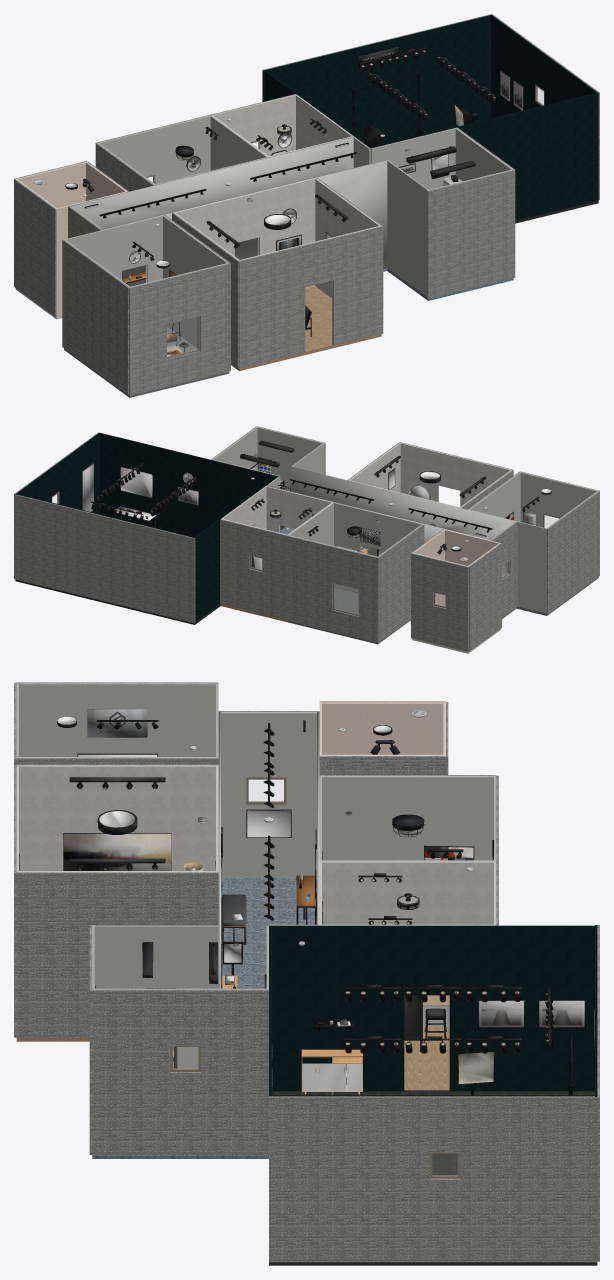
Rendered from scene_named.glb.
3 renders of one model, top to bottom at view 1: azimuth 30°, elevation 25°; view 2: azimuth 150°, elevation 25°; view 3: azimuth 270°, elevation 25°, orthographic. The views are drawn at different scales.
Parts seen in each view (by area): view 1: north_wall_shooting_area/north_wall_shooting_area/geometry_0, south_wall_exterior_client_lounge/south_wall_exterior_client, south_wall_shooting_area/south_wall_shooting_area/geometry_0, south_wall_exterior_office/south_wall_exterior_office/geomet, south_wall_exterior_props_storage/south_wall_exterior_props_, north_wall_hallway/north_wall_hallway/geometry_0, west_wall_exterior_office/west_wall_exterior_office/geometry, north_wall_client_lounge/north_wall_client_lounge/geometry_0, east_wall_shooting_area/east_wall_shooting_area/geometry_0, west_wall_exterior_bathroom/west_wall_exterior_bathroom/geom, west_wall_props_storage/west_wall_props_storage/geometry_0, north_wall_editing_room/north_wall_editing_room/geometry_0 (+19 smaller); view 2: north_wall_exterior_shooting_area/north_wall_exterior_shooti, south_wall_shooting_area/south_wall_shooting_area/geometry_0, north_wall_exterior_editing_room/north_wall_exterior_editing, north_wall_exterior_dressing_room/north_wall_exterior_dressi, south_wall_hallway/south_wall_hallway/geometry_0, north_wall_exterior_bathroom/north_wall_exterior_bathroom/ge, west_wall_exterior_office/west_wall_exterior_office/geometry, south_wall_client_lounge/south_wall_client_lounge/geometry_0, west_wall_exterior_editing_room/west_wall_exterior_editing_r, east_wall_shooting_area/east_wall_shooting_area/geometry_0, west_wall_exterior_bathroom/west_wall_exterior_bathroom/geom, north_wall_office/north_wall_office/geometry_0 (+22 smaller); view 3: east_wall_exterior_shooting_area/east_wall_exterior_shooting, west_wall_shooting_area/west_wall_shooting_area/geometry_0, east_wall_exterior_props_storage/east_wall_exterior_props_st, east_wall_exterior_client_lounge/east_wall_exterior_client_l, west_wall_client_lounge/west_wall_client_lounge/geometry_0, west_wall_editing_room/west_wall_editing_room/geometry_0, west_wall_hallway/west_wall_hallway/geometry_0, west_wall_office/west_wall_office/geometry_0, west_wall_dressing_room/west_wall_dressing_room/geometry_0, west_wall_props_storage/west_wall_props_storage/geometry_0, west_wall_bathroom/west_wall_bathroom/geometry_0, floor_hallway (+17 smaller).
Part boxes in pixels (x1,y1,x2,y2): north_wall_shooting_area/north_wall_shooting_area/geometry_0: (263, 14, 492, 144); south_wall_exterior_client_lounge/south_wall_exterior_client: (238, 226, 383, 368); south_wall_shooting_area/south_wall_shooting_area/geometry_0: (372, 93, 596, 220); south_wall_exterior_office/south_wall_exterior_office/geomet: (129, 263, 230, 395); south_wall_exterior_props_storage/south_wall_exterior_props_: (427, 169, 515, 298); north_wall_hallway/north_wall_hallway/geometry_0: (70, 136, 354, 286); west_wall_exterior_office/west_wall_exterior_office/geometry: (62, 239, 128, 395); north_wall_client_lounge/north_wall_client_lounge/geometry_0: (174, 178, 316, 288); east_wall_shooting_area/east_wall_shooting_area/geometry_0: (491, 15, 598, 200); west_wall_exterior_bathroom/west_wall_exterior_bathroom/geom: (14, 179, 56, 316); west_wall_props_storage/west_wall_props_storage/geometry_0: (387, 160, 429, 296); north_wall_editing_room/north_wall_editing_room/geometry_0: (97, 115, 212, 184); north_wall_exterior_shooting_area/north_wall_exterior_shooti: (14, 494, 195, 623); south_wall_shooting_area/south_wall_shooting_area/geometry_0: (100, 433, 277, 537); north_wall_exterior_editing_room/north_wall_exterior_editing: (287, 535, 378, 642); north_wall_exterior_dressing_room/north_wall_exterior_dressi: (220, 519, 287, 620); south_wall_hallway/south_wall_hallway/geometry_0: (291, 467, 515, 576); north_wall_exterior_bathroom/north_wall_exterior_bathroom/ge: (411, 553, 468, 651); west_wall_exterior_office/west_wall_exterior_office/geometry: (547, 491, 599, 613); south_wall_client_lounge/south_wall_client_lounge/geometry_0: (400, 443, 510, 506); west_wall_exterior_editing_room/west_wall_exterior_editing_r: (378, 524, 424, 641); east_wall_shooting_area/east_wall_shooting_area/geometry_0: (16, 432, 99, 514); west_wall_exterior_bathroom/west_wall_exterior_bathroom/geom: (468, 543, 501, 651); north_wall_office/north_wall_office/geometry_0: (470, 510, 546, 613); east_wall_exterior_shooting_area/east_wall_exterior_shooting: (269, 1096, 597, 1262); west_wall_shooting_area/west_wall_shooting_area/geometry_0: (269, 925, 594, 1091); east_wall_exterior_props_storage/east_wall_exterior_props_st: (92, 989, 268, 1155); east_wall_exterior_client_lounge/east_wall_exterior_client_l: (16, 872, 218, 1037); west_wall_client_lounge/west_wall_client_lounge/geometry_0: (16, 765, 215, 870); west_wall_editing_room/west_wall_editing_room/geometry_0: (322, 776, 493, 860); west_wall_hallway/west_wall_hallway/geometry_0: (221, 712, 316, 877); west_wall_office/west_wall_office/geometry_0: (16, 683, 218, 756); west_wall_dressing_room/west_wall_dressing_room/geometry_0: (320, 861, 496, 1027); west_wall_props_storage/west_wall_props_storage/geometry_0: (94, 925, 218, 1068); west_wall_bathroom/west_wall_bathroom/geometry_0: (320, 702, 445, 754); floor_hallway: (221, 878, 316, 988).
Bounding box in the file's own units: 19.45 × 3.7 × 11.6.
273 materials, 251 textured.
